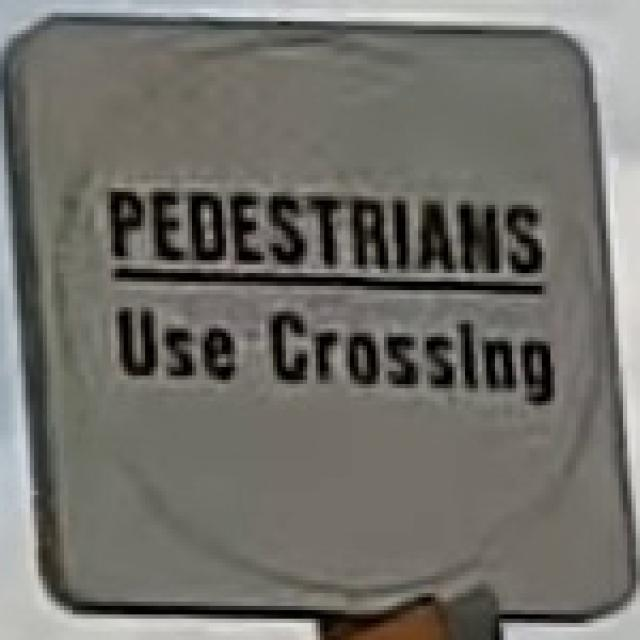pedestriancrossing_sign: (28, 33, 613, 607)
